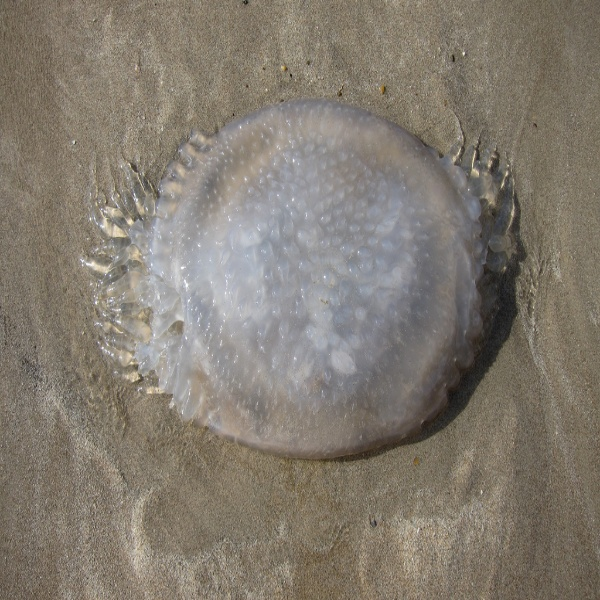Jellyfish: (80, 95, 512, 460)
